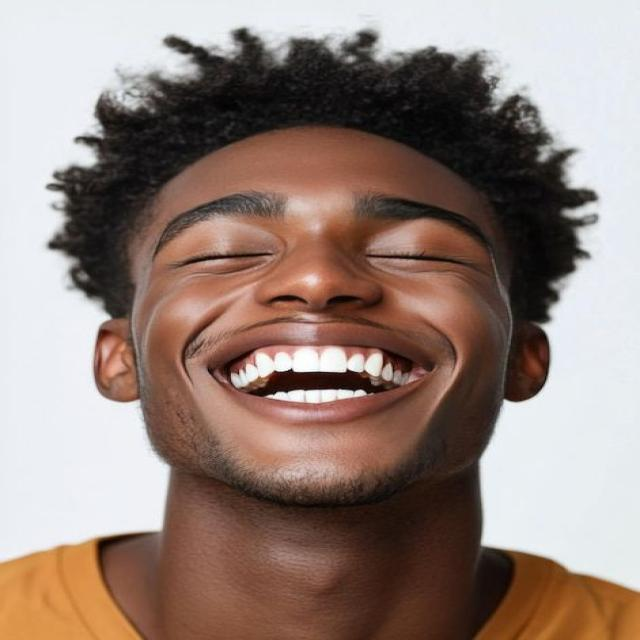sem_oculos: (57, 184, 549, 337)
